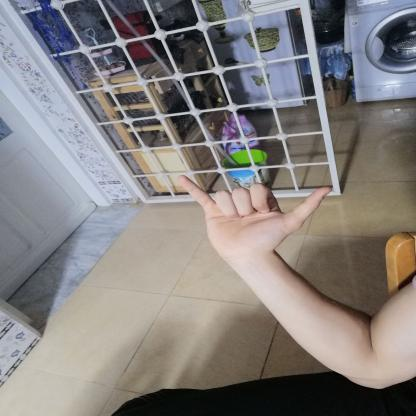YA: (164, 165, 344, 271)
